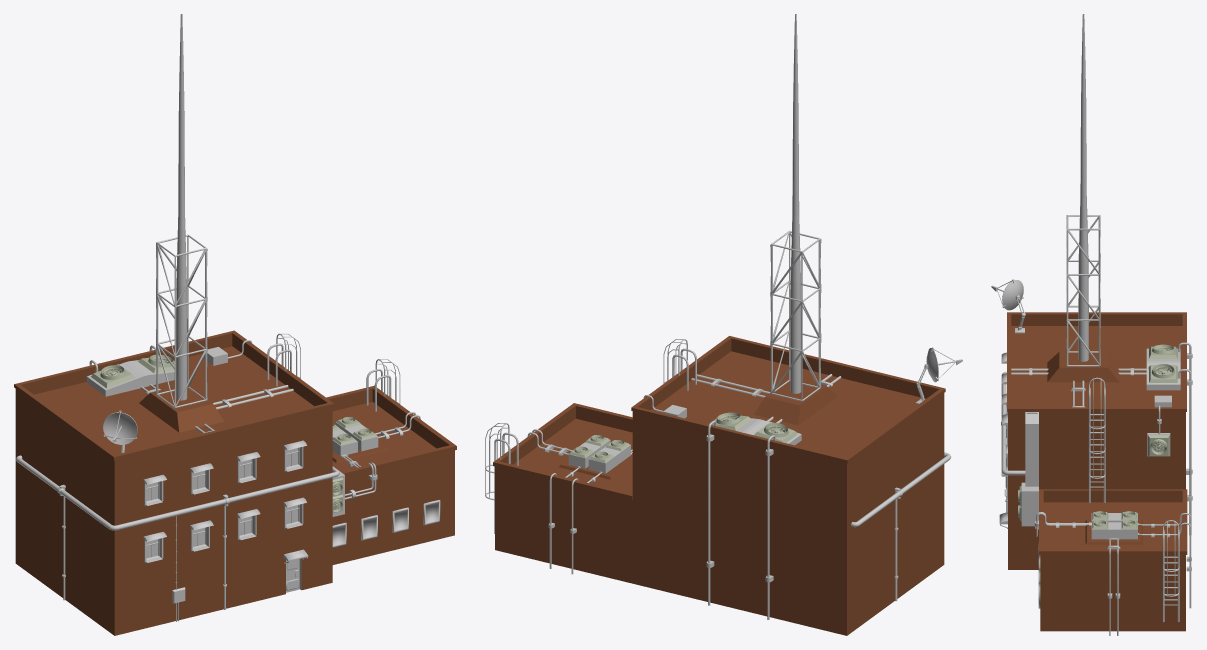
The model's file is Futuristicghettobuilding.obj.
3 views of the same model, side by side, from view 1: azimuth 30°, elevation 25°; view 2: azimuth 150°, elevation 25°; view 3: azimuth 270°, elevation 25° (orthographic). The views are drawn at different scales.
Visible parts, largest first — view 1: Futuristicghettobuilding.002_Plane.041; view 2: Futuristicghettobuilding.002_Plane.041; view 3: Futuristicghettobuilding.002_Plane.041.
Part boxes in pixels (x1,y1,x2,y2): Futuristicghettobuilding.002_Plane.041: [14, 14, 456, 635]; Futuristicghettobuilding.002_Plane.041: [485, 14, 962, 635]; Futuristicghettobuilding.002_Plane.041: [991, 14, 1192, 635].
Size of the model in its own units: 24.78 by 34.8 by 12.44.
